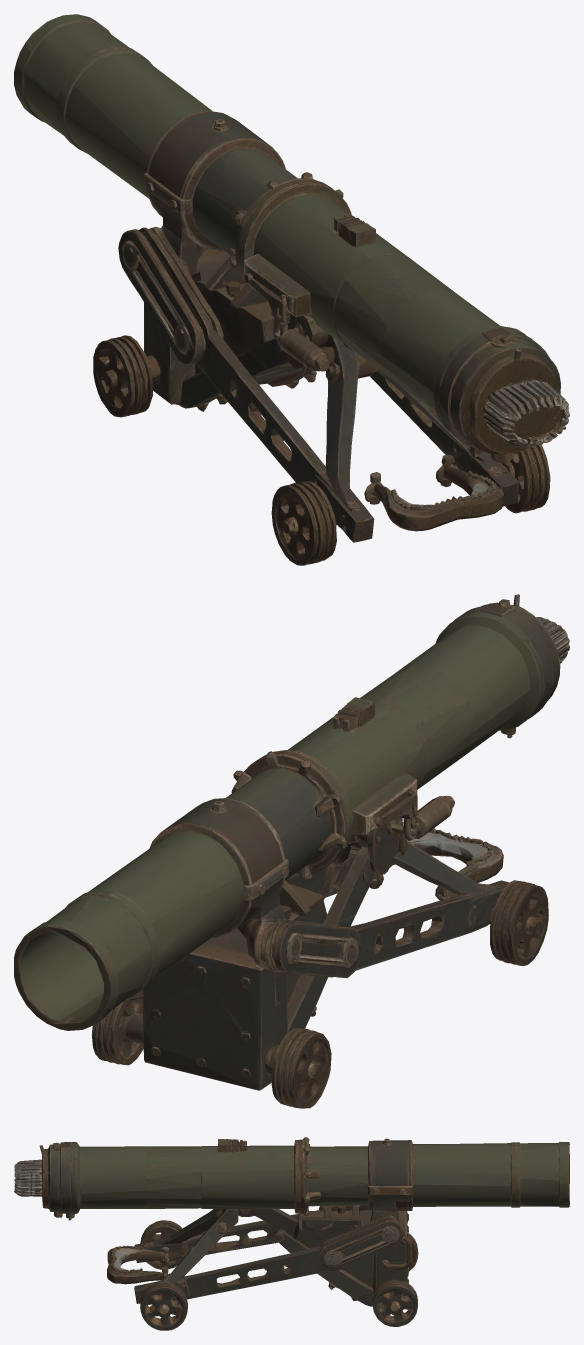
Rendered from tower_mortar.glb.
The picture shows the model from 3 angles, top to bottom: view 1: azimuth 30°, elevation 25°; view 2: azimuth 150°, elevation 25°; view 3: azimuth 270°, elevation 25°; orthographic projection. The views are drawn at different scales.
Visible parts, largest first — view 1: tower_mortar; view 2: tower_mortar; view 3: tower_mortar.
Boxes of the visible parts, x1,y1,x2,y2 form: tower_mortar: (14, 14, 569, 565); tower_mortar: (14, 594, 569, 1108); tower_mortar: (14, 1137, 569, 1330).
Size of the model in its own units: 0.6127 by 0.6321 by 2.
Materials: 1 (1 with a texture image).
